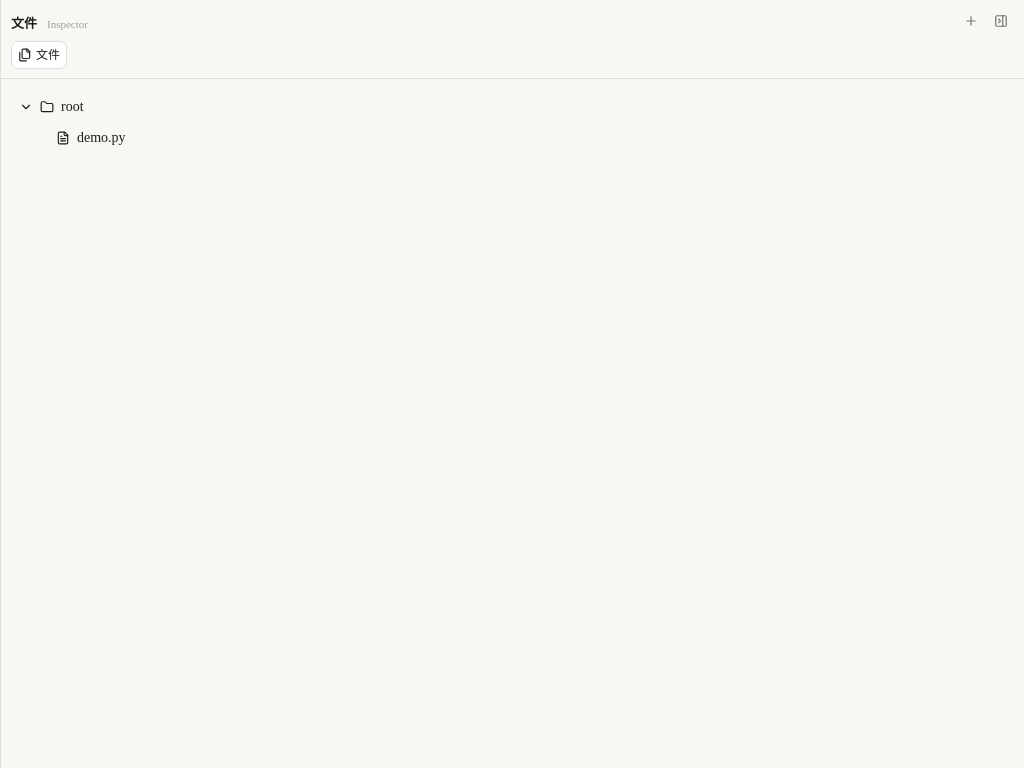
Test: WorkspaceDock › creates tool panes from the dock plus menu
Click the button named "添加工具窗格". click: {"x": 971, "y": 21}
box: x1=958 y1=8 x2=984 y2=34
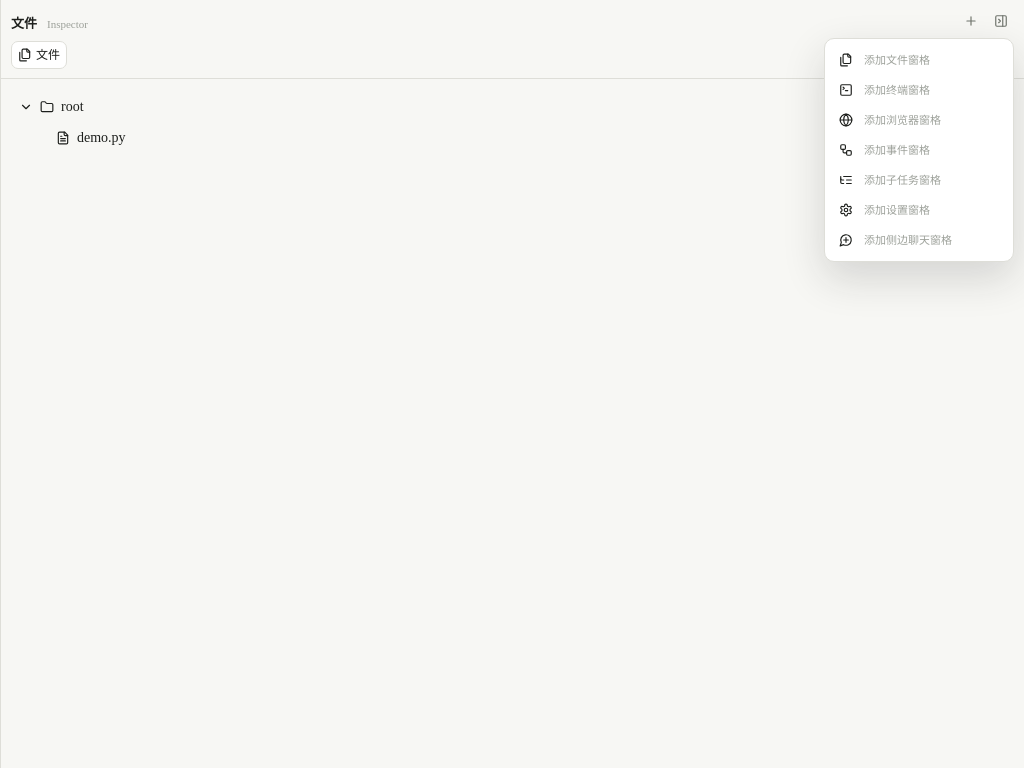
Click the button "添加终端窗格". click: {"x": 919, "y": 90}
box: x1=831 y1=75 x2=1007 y2=105
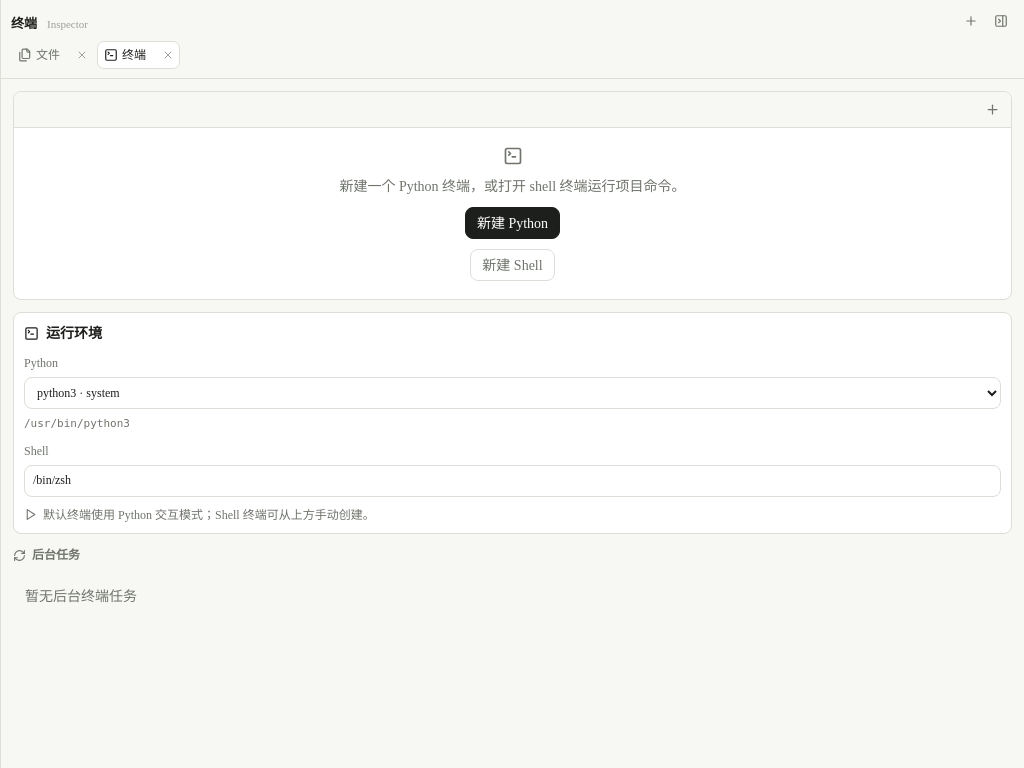
Now the tab "终端" is shown, box x1=98 y1=42 x2=152 y2=68
Now the text "运行环境" is shown, box x1=46 y1=323 x2=102 y2=344
Click the button named "添加工具窗格". click: {"x": 971, "y": 21}
box: x1=958 y1=8 x2=984 y2=34
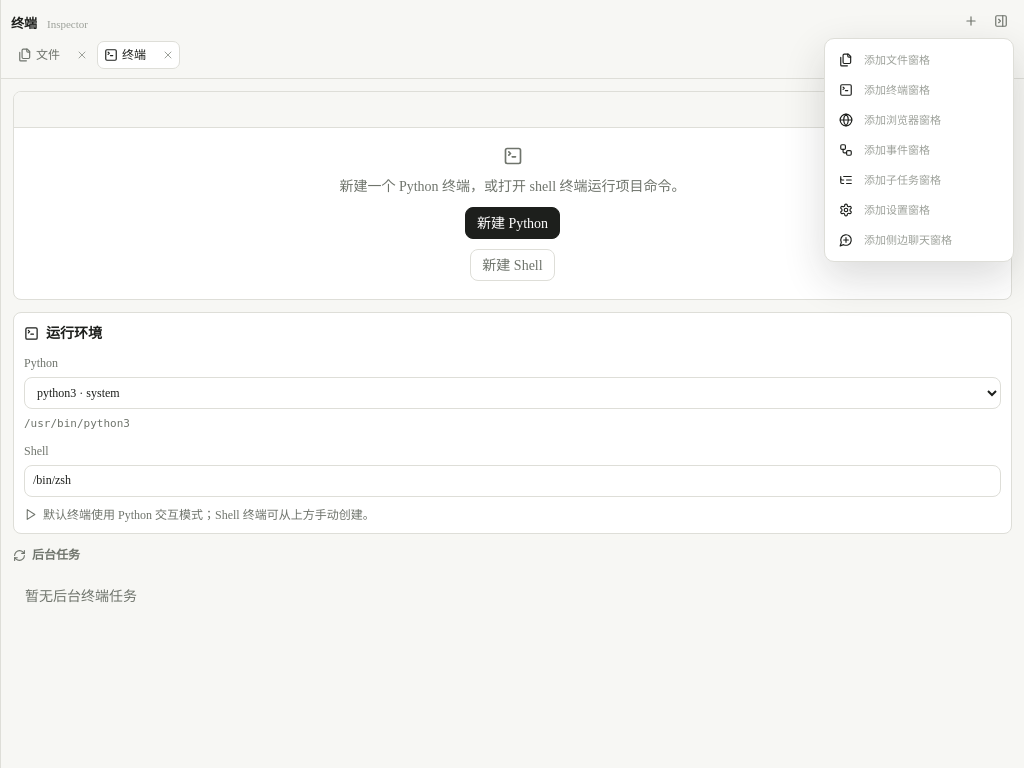
Click the button "添加浏览器窗格". click: {"x": 919, "y": 120}
box: x1=831 y1=105 x2=1007 y2=135
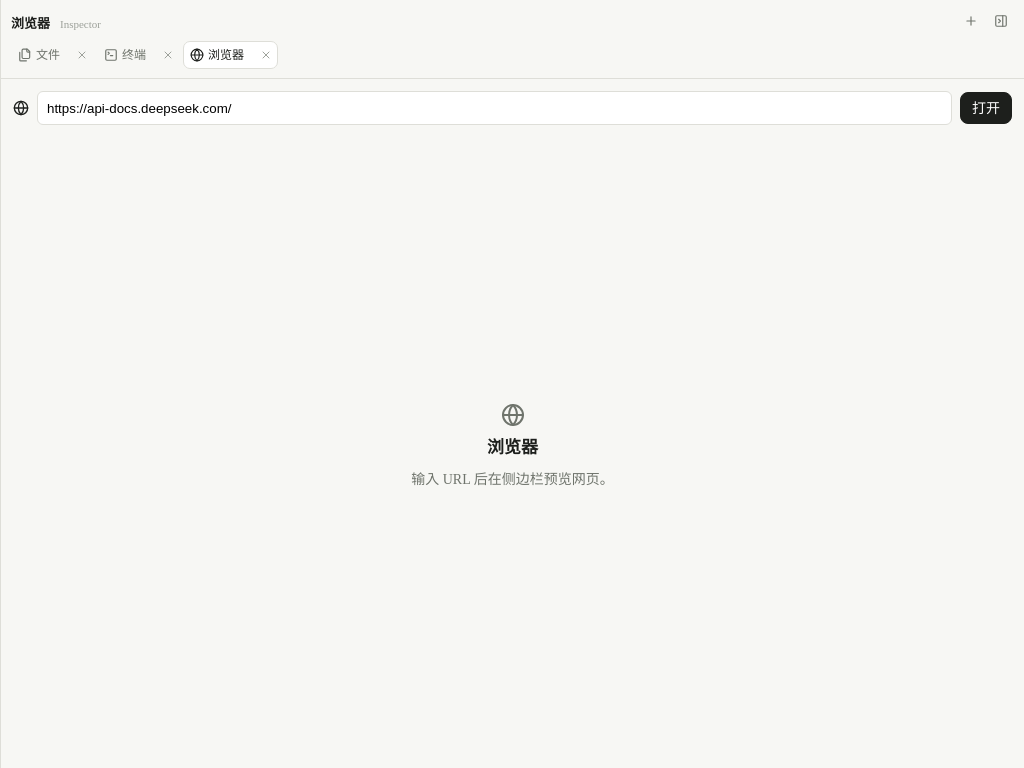
Now the tab "浏览器" is shown, box x1=184 y1=42 x2=250 y2=68
Now the field named "Browser URL" is shown, box x1=37 y1=91 x2=952 y2=125
